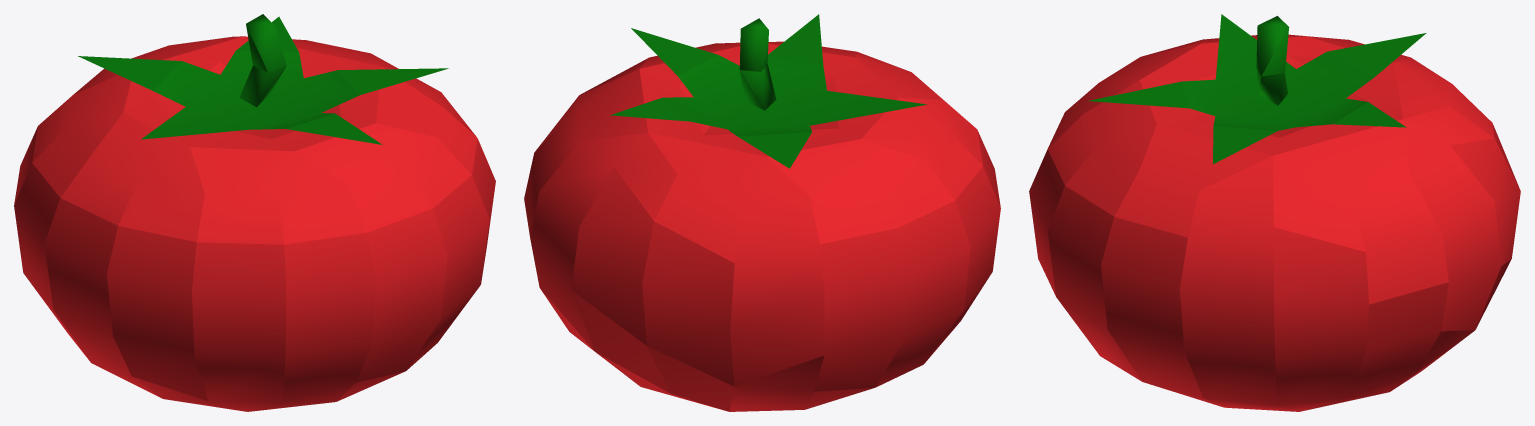
File: Tomato2.fbx
3 renders of one model, left to right at view 1: azimuth 30°, elevation 25°; view 2: azimuth 150°, elevation 25°; view 3: azimuth 270°, elevation 25°, orthographic. The views are drawn at different scales.
Visible parts, largest first — view 1: Sphere; view 2: Sphere; view 3: Sphere.
Part boxes in pixels (<box>): Sphere: <box>14,14,495,411</box>; Sphere: <box>524,14,1000,411</box>; Sphere: <box>1029,14,1520,411</box>.
Size of the model in its own units: 200 by 160 by 200.
